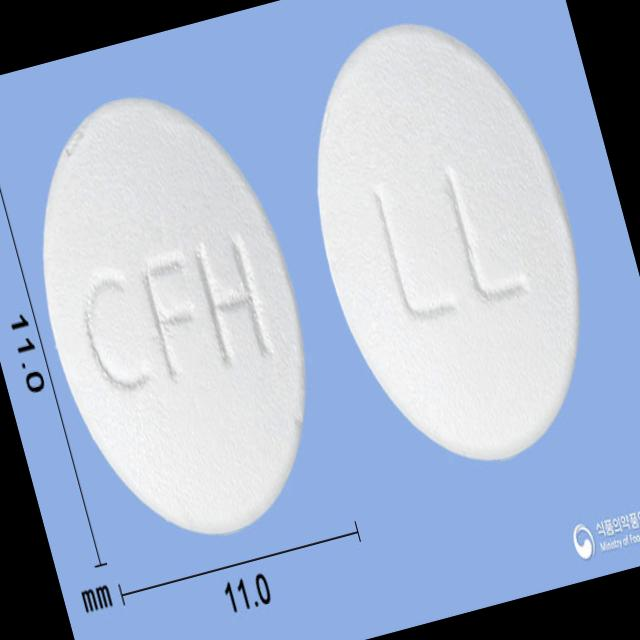Cyfloc: (0, 64, 352, 566), (269, 0, 625, 491)
